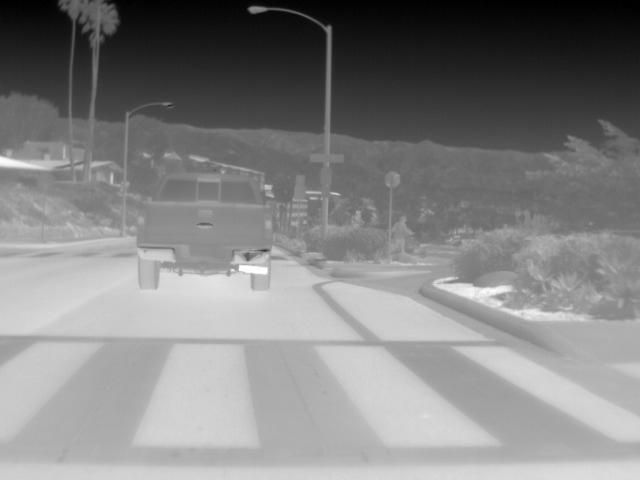car: (134, 170, 278, 290)
person: (390, 214, 417, 256)
